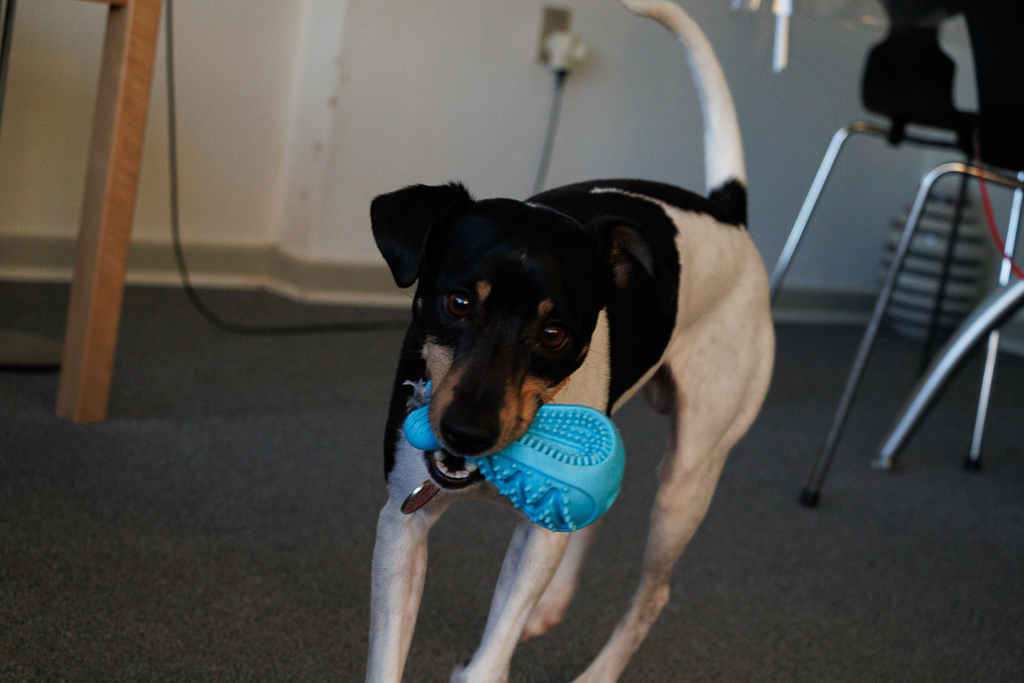Dog: (356, 0, 784, 683)
